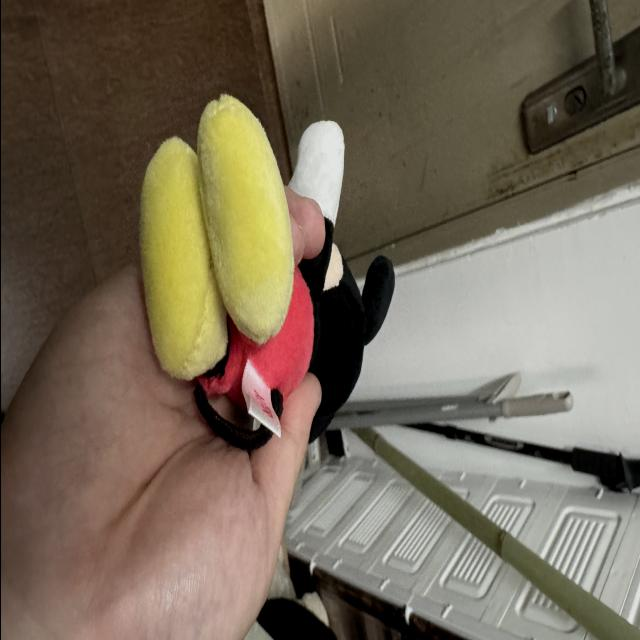mickey: (141, 96, 393, 449)
